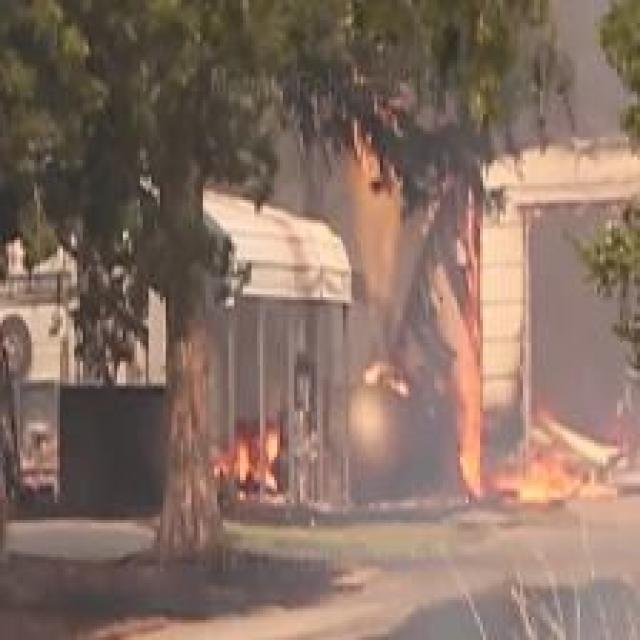Fire: (494, 446, 622, 500), (448, 348, 483, 496), (216, 430, 281, 496)
